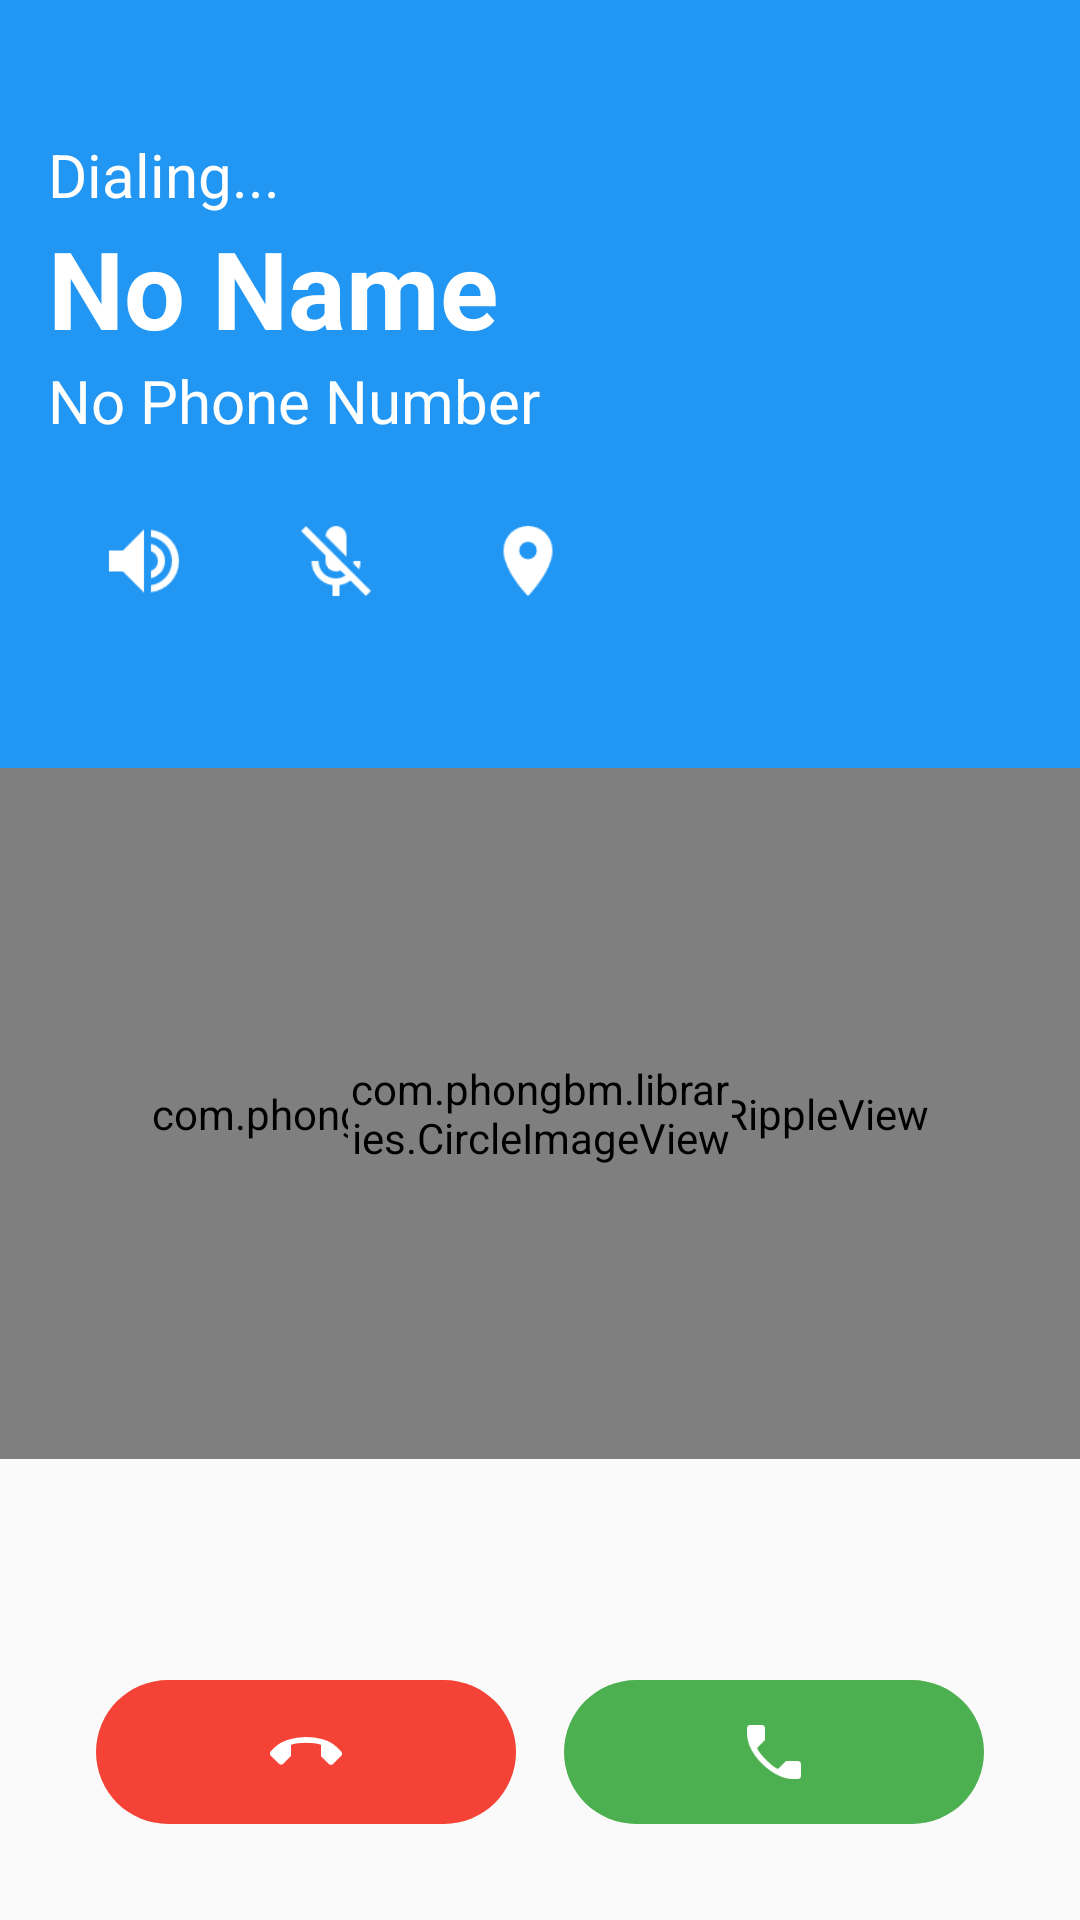

Screen size 1080px×1920px. Icon name, then its box in pixels as (x1,y1,x2,y2):
location: (503,526,553,596)
no microphone: (301,526,371,596)
speaker: (109,529,179,593)
